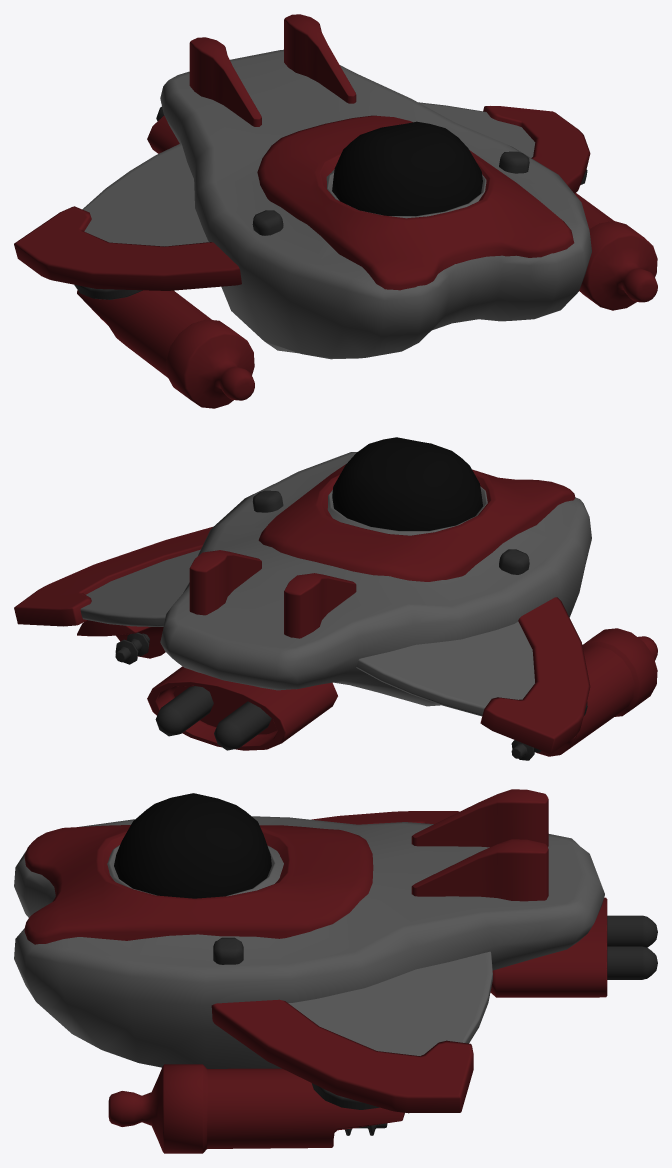
Rendered from LittleEnnemy3.glb.
The picture shows the model from 3 angles, top to bottom: view 1: azimuth 30°, elevation 25°; view 2: azimuth 150°, elevation 25°; view 3: azimuth 270°, elevation 25°; orthographic projection. The views are drawn at different scales.
Visible parts, largest first — view 1: Ship_enemy_03_Hull, Ship_enemy_03_Wing_R, Ship_enemy_03_Weapon_R, Ship_enemy_03_Wing_L, Ship_enemy_03_Weapon_L, Ship_enemy_03_Engine; view 2: Ship_enemy_03_Hull, Ship_enemy_03_Wing_R, Ship_enemy_03_Wing_L, Ship_enemy_03_Engine, Ship_enemy_03_Weapon_R, Ship_enemy_03_Weapon_L; view 3: Ship_enemy_03_Hull, Ship_enemy_03_Wing_L, Ship_enemy_03_Weapon_L, Ship_enemy_03_Engine, Ship_enemy_03_Wing_R.
Boxes of the visible parts, x1,y1,x2,y2 form: Ship_enemy_03_Hull: [160, 14, 591, 359]; Ship_enemy_03_Wing_R: [14, 143, 241, 290]; Ship_enemy_03_Weapon_R: [74, 284, 254, 408]; Ship_enemy_03_Wing_L: [418, 102, 590, 193]; Ship_enemy_03_Weapon_L: [575, 169, 657, 310]; Ship_enemy_03_Engine: [147, 106, 179, 153]; Ship_enemy_03_Hull: [160, 437, 591, 706]; Ship_enemy_03_Wing_R: [356, 597, 590, 753]; Ship_enemy_03_Wing_L: [14, 527, 212, 626]; Ship_enemy_03_Engine: [147, 666, 337, 750]; Ship_enemy_03_Weapon_R: [511, 628, 657, 760]; Ship_enemy_03_Weapon_L: [77, 620, 165, 664]; Ship_enemy_03_Hull: [14, 789, 604, 1068]; Ship_enemy_03_Wing_L: [211, 951, 492, 1113]; Ship_enemy_03_Weapon_L: [108, 1064, 404, 1153]; Ship_enemy_03_Engine: [490, 897, 657, 997]; Ship_enemy_03_Wing_R: [312, 811, 459, 824].
Bounding box in the file's own units: 5.85 × 2.24 × 5.55.
1 material, 1 textured.
